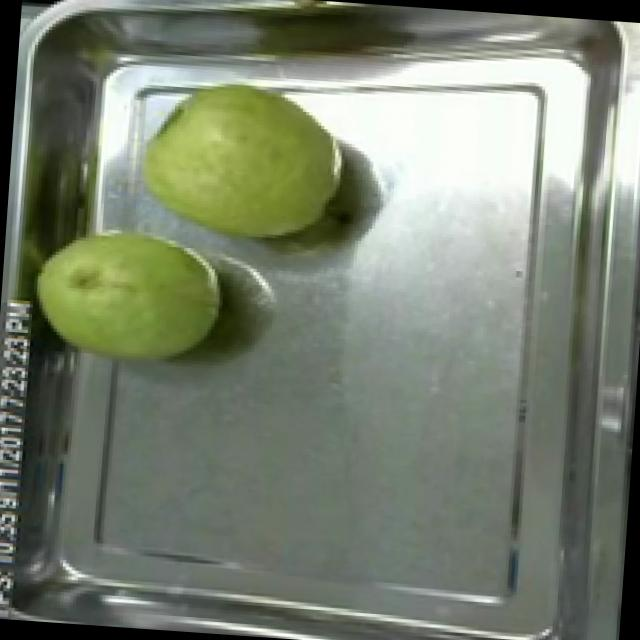Fruit: (120, 51, 360, 268), (19, 207, 238, 380)
